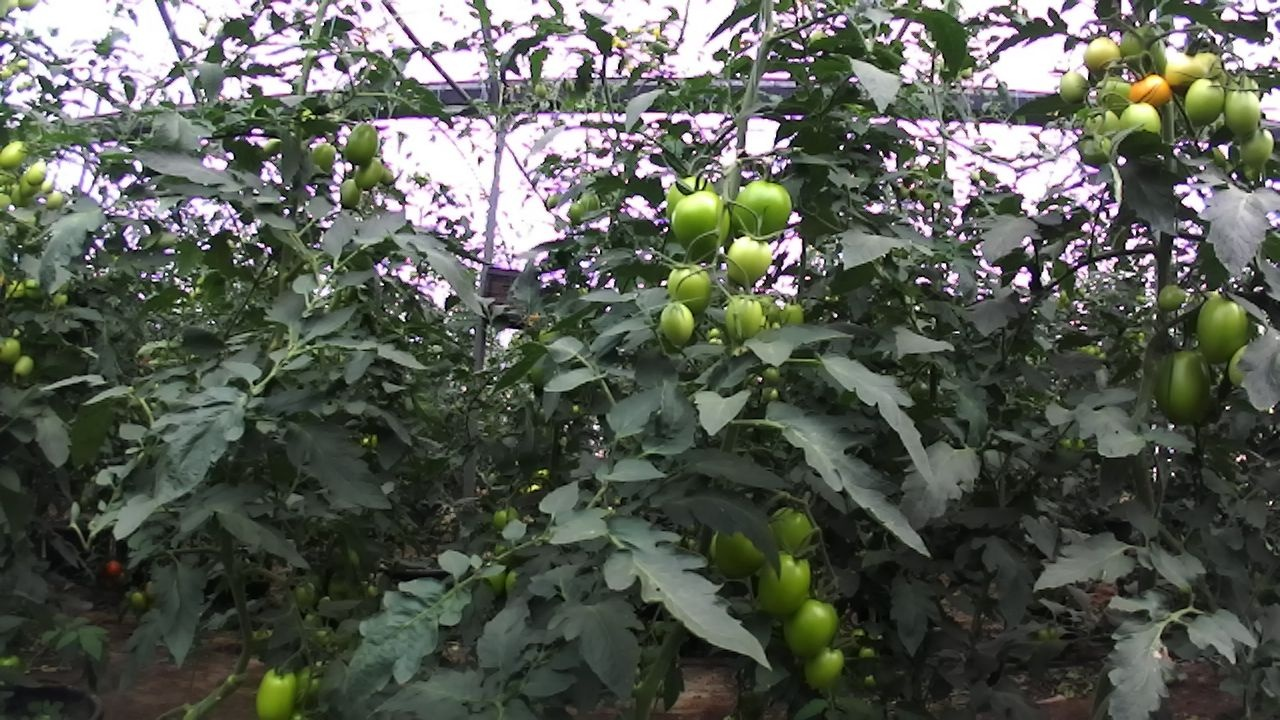tomato: (655, 183, 746, 266), (727, 165, 805, 251), (1147, 343, 1221, 432), (746, 543, 821, 627), (1190, 284, 1257, 370), (777, 588, 846, 670), (753, 494, 825, 571), (707, 284, 779, 355), (238, 656, 316, 720), (704, 520, 779, 583), (720, 229, 785, 297), (658, 256, 720, 320), (795, 640, 855, 700), (1114, 19, 1176, 76), (1180, 67, 1234, 132), (337, 110, 387, 172), (1221, 82, 1265, 142), (1160, 47, 1209, 100), (652, 297, 700, 349), (1079, 30, 1129, 78), (1116, 97, 1168, 142), (1126, 70, 1178, 111), (1235, 124, 1279, 172), (1053, 66, 1096, 111), (347, 151, 390, 196), (304, 136, 344, 183), (1152, 277, 1194, 317), (0, 127, 35, 174), (561, 193, 593, 238), (333, 175, 367, 213), (19, 155, 52, 191), (0, 330, 28, 372), (36, 185, 71, 215), (488, 503, 526, 530), (11, 349, 39, 382), (99, 556, 130, 582), (126, 588, 153, 613)
